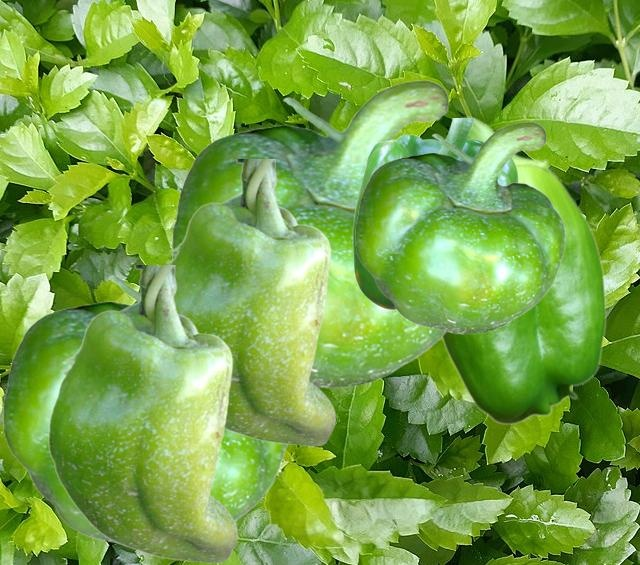bell_pepper: (172, 79, 452, 387), (3, 272, 289, 549), (47, 265, 237, 562), (441, 116, 606, 424), (164, 159, 335, 445), (355, 121, 564, 333), (352, 118, 517, 310)
